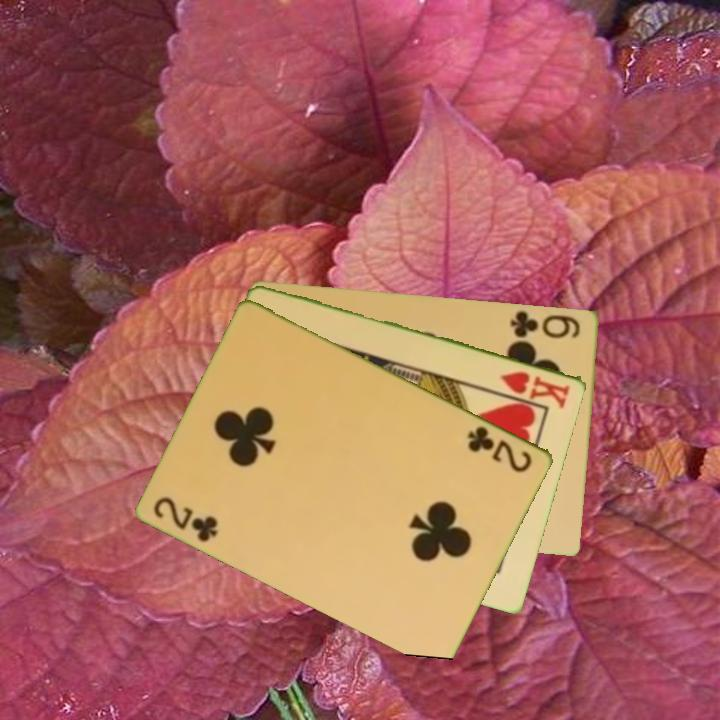2c: (464, 422, 536, 476), (150, 492, 222, 545)
6c: (507, 307, 584, 341)
Kh: (497, 367, 574, 410)
